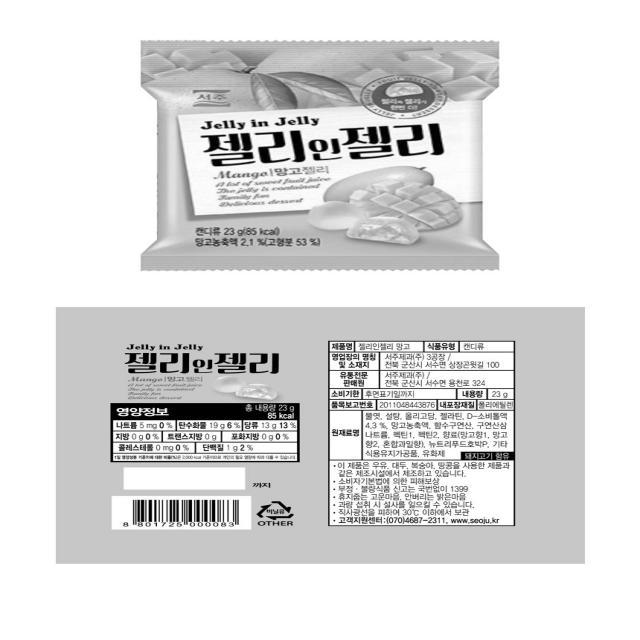Nutrition Label: (101, 398, 311, 467)
